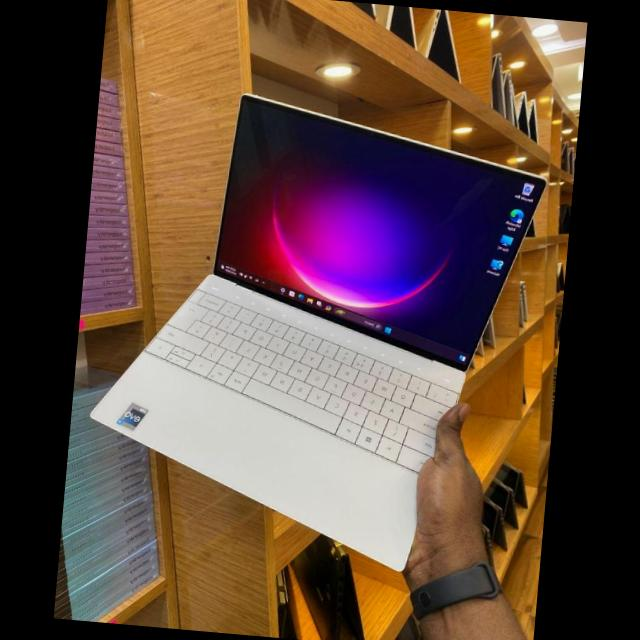laptop: (81, 75, 561, 590)
